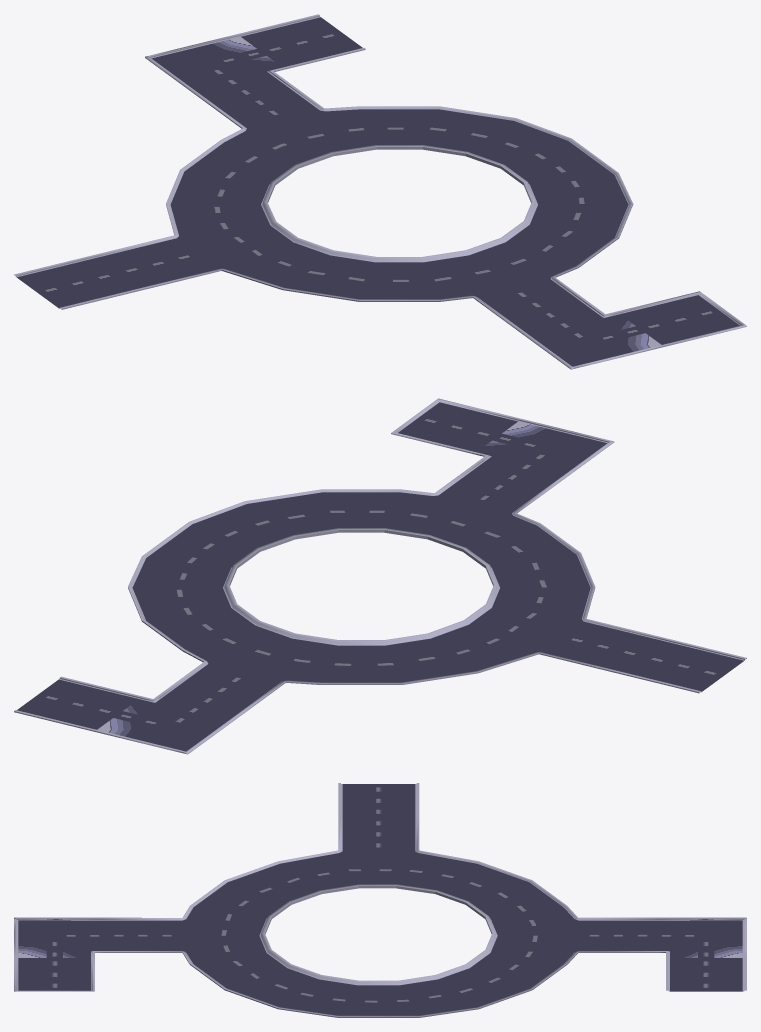
3 renders of one model, top to bottom at view 1: azimuth 30°, elevation 25°; view 2: azimuth 150°, elevation 25°; view 3: azimuth 270°, elevation 25°, orthographic. The views are drawn at different scales.
Visible parts, largest first — view 1: Circle_1; view 2: Circle_1; view 3: Circle_1.
Boxes of the visible parts, x1,y1,x2,y2 form: Circle_1: (14, 14, 746, 369); Circle_1: (14, 398, 746, 754); Circle_1: (14, 783, 746, 1017).
Bounding box in the file's own units: 67.86 × 0.3291 × 89.84.
